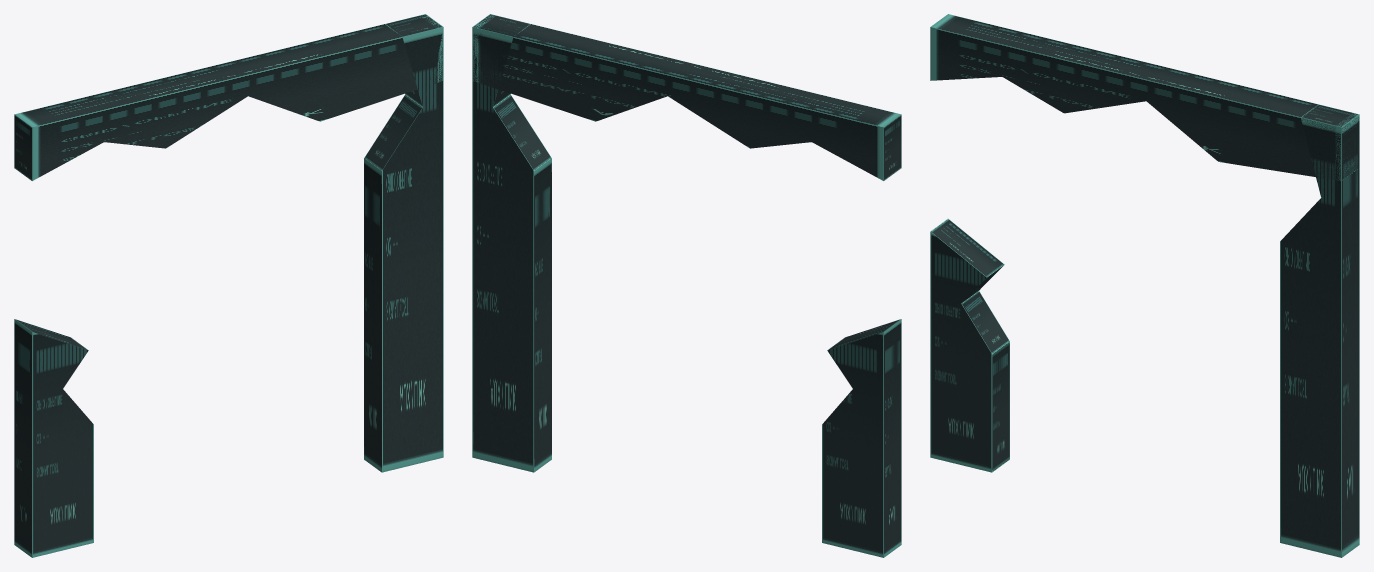
File: wall_breach_4m_LOD3.obj
3 views of the same model, side by side, from view 1: azimuth 30°, elevation 25°; view 2: azimuth 150°, elevation 25°; view 3: azimuth 330°, elevation 25° (orthographic).
Visible parts, largest first — view 1: L02_wall_breach_4m_LOD3; view 2: L02_wall_breach_4m_LOD3; view 3: L02_wall_breach_4m_LOD3.
Part boxes in pixels (left/top/right/bottom): L02_wall_breach_4m_LOD3: left=14, top=14, right=443, bottom=557; L02_wall_breach_4m_LOD3: left=472, top=14, right=901, bottom=557; L02_wall_breach_4m_LOD3: left=930, top=14, right=1359, bottom=557.
Bounding box in the file's own units: 4 × 4 × 0.3.
Materials: 1 (1 with a texture image).
